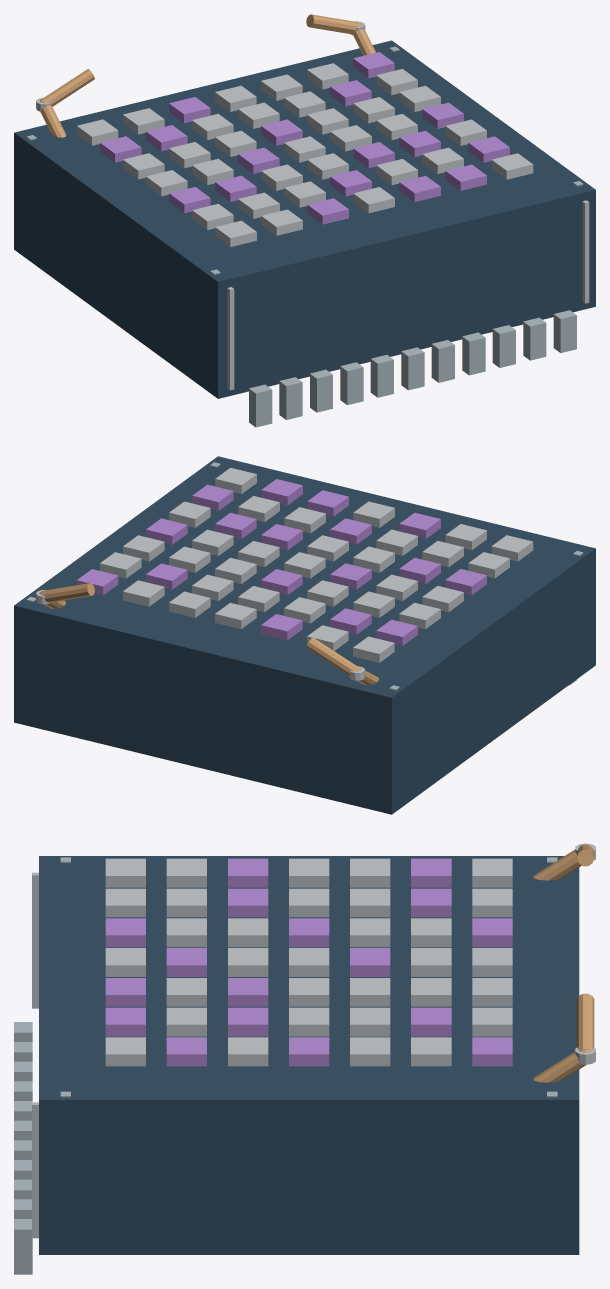
Rendered from 16_L74_OpticalIlluminationHomogenizer.glb.
The picture shows the model from 3 angles, top to bottom: view 1: azimuth 30°, elevation 25°; view 2: azimuth 150°, elevation 25°; view 3: azimuth 270°, elevation 25°; orthographic projection. The views are drawn at different scales.
Parts seen in each view (by area): view 1: OpticalIlluminationHomogenizer_Node_0000, OpticalIlluminationHomogenizer_Node_0064, OpticalIlluminationHomogenizer_Node_0065, OpticalIlluminationHomogenizer_Node_0057, OpticalIlluminationHomogenizer_Node_0061, OpticalIlluminationHomogenizer_Node_0056, OpticalIlluminationHomogenizer_Node_0060, OpticalIlluminationHomogenizer_Node_0063, OpticalIlluminationHomogenizer_Node_0059, OpticalIlluminationHomogenizer_Node_0066, OpticalIlluminationHomogenizer_Node_0062, OpticalIlluminationHomogenizer_Node_0058 (+53 smaller); view 2: OpticalIlluminationHomogenizer_Node_0000, OpticalIlluminationHomogenizer_Node_0042, OpticalIlluminationHomogenizer_Node_0028, OpticalIlluminationHomogenizer_Node_0035, OpticalIlluminationHomogenizer_Node_0007, OpticalIlluminationHomogenizer_Node_0021, OpticalIlluminationHomogenizer_Node_0013, OpticalIlluminationHomogenizer_Node_0052, OpticalIlluminationHomogenizer_Node_0016, OpticalIlluminationHomogenizer_Node_0032, OpticalIlluminationHomogenizer_Node_0015, OpticalIlluminationHomogenizer_Node_0025 (+40 smaller); view 3: OpticalIlluminationHomogenizer_Node_0000, OpticalIlluminationHomogenizer_Node_0007, OpticalIlluminationHomogenizer_Node_0008, OpticalIlluminationHomogenizer_Node_0014, OpticalIlluminationHomogenizer_Node_0015, OpticalIlluminationHomogenizer_Node_0021, OpticalIlluminationHomogenizer_Node_0022, OpticalIlluminationHomogenizer_Node_0042, OpticalIlluminationHomogenizer_Node_0043, OpticalIlluminationHomogenizer_Node_0049, OpticalIlluminationHomogenizer_Node_0050, OpticalIlluminationHomogenizer_Node_0009 (+44 smaller).
Boxes of the visible parts, bbox=[...] form: OpticalIlluminationHomogenizer_Node_0000: bbox=[14, 40, 595, 398]; OpticalIlluminationHomogenizer_Node_0064: bbox=[492, 325, 515, 367]; OpticalIlluminationHomogenizer_Node_0065: bbox=[523, 317, 546, 360]; OpticalIlluminationHomogenizer_Node_0057: bbox=[279, 377, 302, 419]; OpticalIlluminationHomogenizer_Node_0061: bbox=[401, 347, 424, 390]; OpticalIlluminationHomogenizer_Node_0056: bbox=[249, 384, 272, 427]; OpticalIlluminationHomogenizer_Node_0060: bbox=[370, 355, 393, 397]; OpticalIlluminationHomogenizer_Node_0063: bbox=[462, 332, 485, 375]; OpticalIlluminationHomogenizer_Node_0059: bbox=[340, 362, 363, 405]; OpticalIlluminationHomogenizer_Node_0066: bbox=[553, 310, 576, 352]; OpticalIlluminationHomogenizer_Node_0062: bbox=[431, 340, 454, 382]; OpticalIlluminationHomogenizer_Node_0058: bbox=[310, 369, 332, 412]; OpticalIlluminationHomogenizer_Node_0000: bbox=[14, 456, 595, 814]; OpticalIlluminationHomogenizer_Node_0042: bbox=[123, 580, 164, 606]; OpticalIlluminationHomogenizer_Node_0028: bbox=[215, 602, 256, 629]; OpticalIlluminationHomogenizer_Node_0035: bbox=[169, 591, 210, 617]; OpticalIlluminationHomogenizer_Node_0007: bbox=[353, 636, 394, 662]; OpticalIlluminationHomogenizer_Node_0021: bbox=[261, 614, 302, 640]; OpticalIlluminationHomogenizer_Node_0013: bbox=[491, 535, 533, 561]; OpticalIlluminationHomogenizer_Node_0052: bbox=[146, 518, 187, 544]; OpticalIlluminationHomogenizer_Node_0016: bbox=[353, 591, 394, 617]; OpticalIlluminationHomogenizer_Node_0032: bbox=[307, 535, 348, 561]; OpticalIlluminationHomogenizer_Node_0015: bbox=[330, 608, 371, 634]; OpticalIlluminationHomogenizer_Node_0025: bbox=[353, 546, 394, 572]; OpticalIlluminationHomogenizer_Node_0000: bbox=[39, 856, 579, 1254]; OpticalIlluminationHomogenizer_Node_0007: bbox=[472, 858, 512, 887]; OpticalIlluminationHomogenizer_Node_0008: bbox=[411, 858, 451, 887]; OpticalIlluminationHomogenizer_Node_0014: bbox=[472, 888, 512, 917]; OpticalIlluminationHomogenizer_Node_0015: bbox=[411, 888, 451, 917]; OpticalIlluminationHomogenizer_Node_0021: bbox=[472, 918, 512, 947]; OpticalIlluminationHomogenizer_Node_0022: bbox=[411, 918, 451, 947]; OpticalIlluminationHomogenizer_Node_0042: bbox=[472, 1007, 512, 1036]; OpticalIlluminationHomogenizer_Node_0043: bbox=[411, 1007, 451, 1036]; OpticalIlluminationHomogenizer_Node_0049: bbox=[472, 1037, 512, 1066]; OpticalIlluminationHomogenizer_Node_0050: bbox=[411, 1037, 451, 1066]; OpticalIlluminationHomogenizer_Node_0009: bbox=[350, 858, 390, 887].
Size of the model in its own units: 1.86 by 0.8848 by 1.87.
